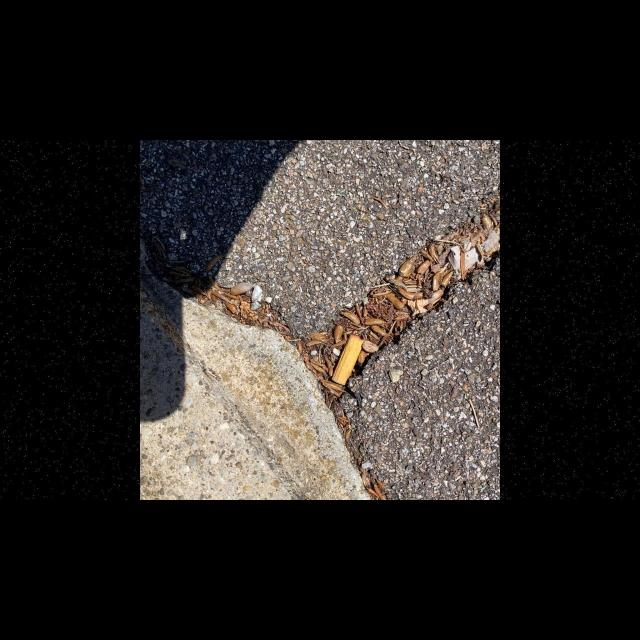cigarette: (332, 334, 366, 385)
